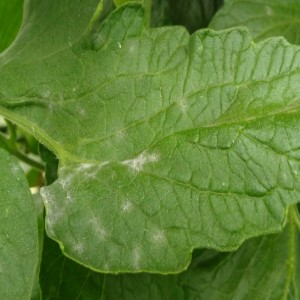oidio: (41, 188, 73, 233), (121, 150, 161, 172), (76, 160, 108, 179), (90, 215, 107, 242), (129, 245, 141, 272), (151, 228, 171, 244), (176, 97, 190, 111), (122, 201, 136, 213), (73, 241, 83, 255)
